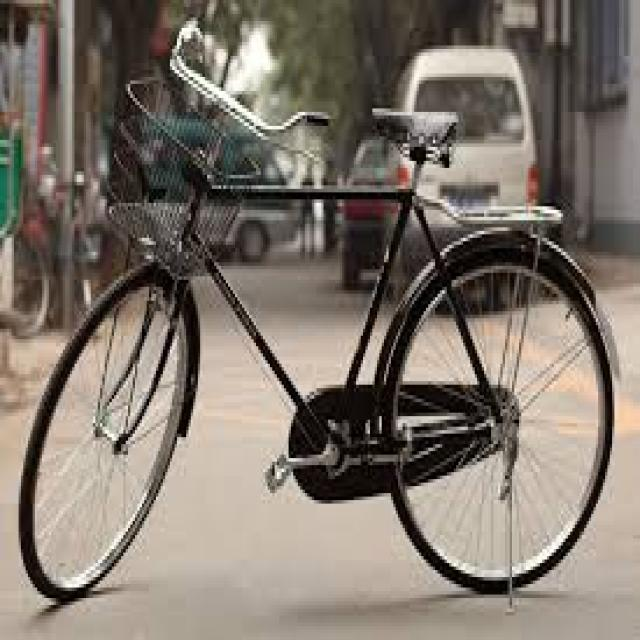bicycle: (23, 54, 613, 597)
